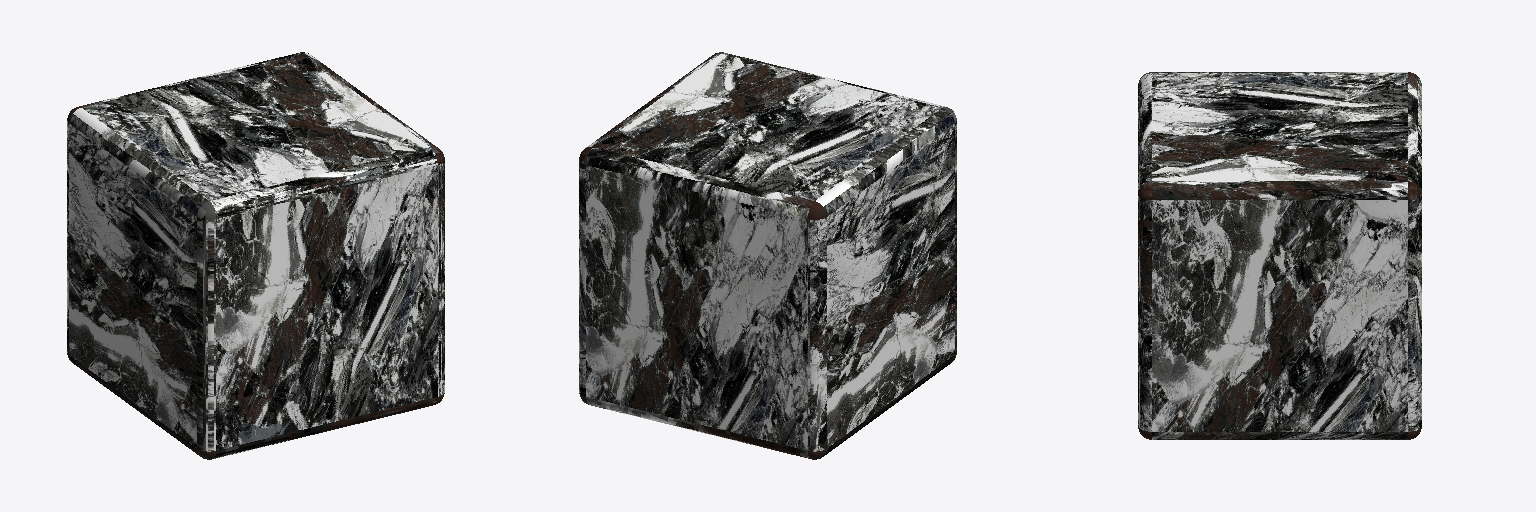
The picture shows the model from 3 angles: view 1: azimuth 30°, elevation 25°; view 2: azimuth 150°, elevation 25°; view 3: azimuth 270°, elevation 25°; orthographic projection.
Visible parts, largest first — view 1: Cube; view 2: Cube; view 3: Cube.
Part boxes in pixels (x1,y1,x2,y2): Cube: (67,52,444,459); Cube: (579,52,956,459); Cube: (1138,72,1421,439).
Bounding box in the file's own units: 2 × 2 × 2.
1 materials, 1 textured.